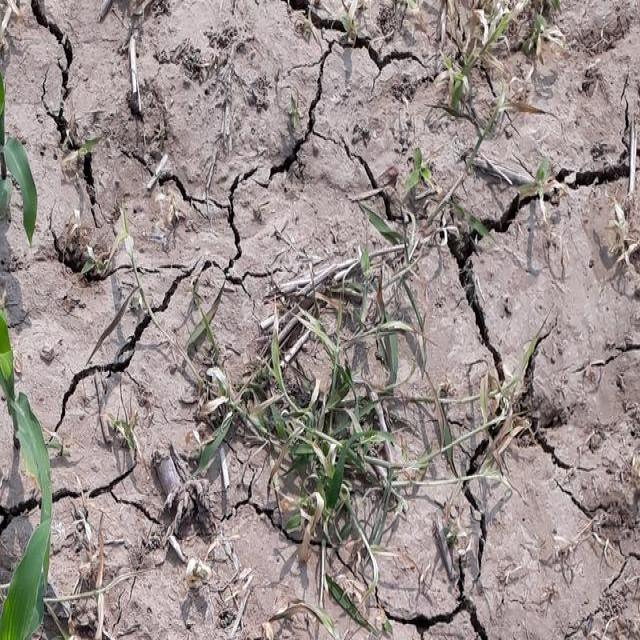weed: (196, 241, 421, 566)
